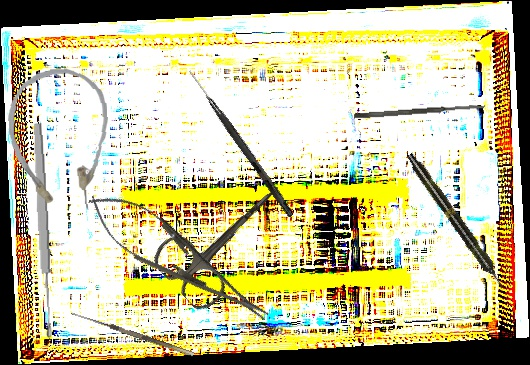Cannula: (5, 65, 114, 216)
Handpiece: (403, 150, 509, 293)
Hook Surgical: (184, 69, 297, 218), (68, 310, 195, 363)
Iris Scissors: (147, 159, 306, 316)
Needle Holder: (76, 178, 280, 339)
Spatula Surgical: (353, 103, 486, 120)
Surgical Spoon: (30, 122, 56, 339)
